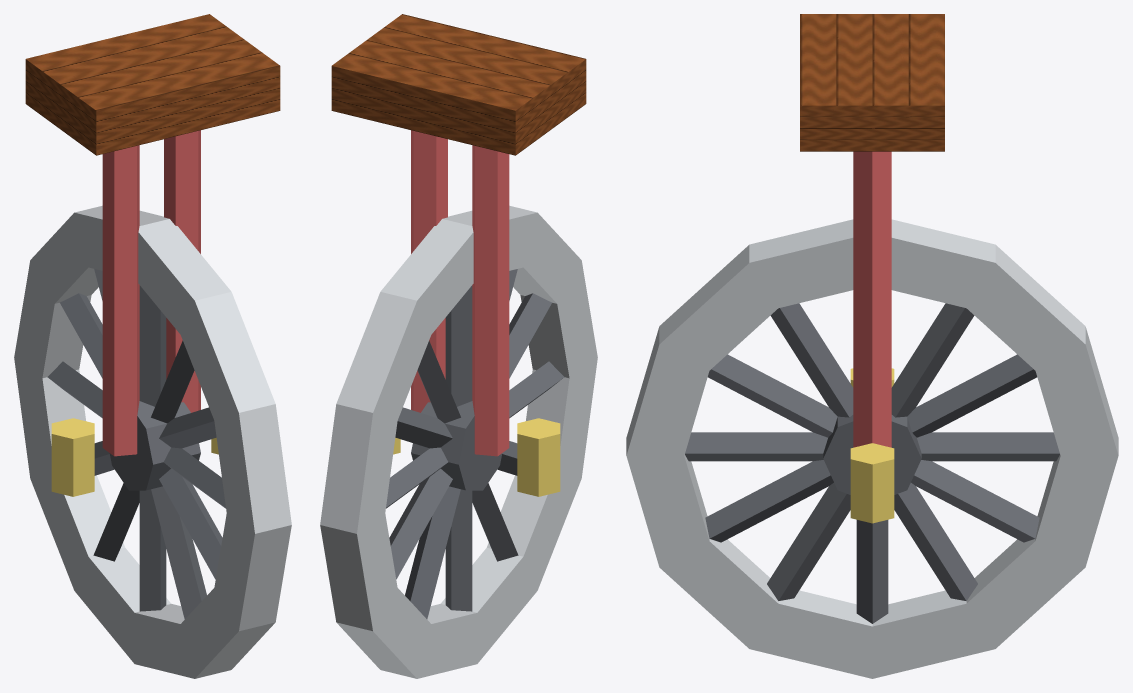
File: travelling-circus-and-big-top-unicycle-edaf1438__36247.glb
3 views of the same model, side by side, from view 1: azimuth 30°, elevation 25°; view 2: azimuth 150°, elevation 25°; view 3: azimuth 270°, elevation 25° (orthographic). The views are drawn at different scales.
Visible parts, largest first — view 1: wheel-main/steel, wheel-main/charcoal, unicycle-timber, unicycle-stripe, unicycle-gold; view 2: wheel-main/steel, wheel-main/charcoal, unicycle-timber, unicycle-stripe, unicycle-gold; view 3: wheel-main/steel, wheel-main/charcoal, unicycle-timber, unicycle-stripe, unicycle-gold.
Boxes of the visible parts, left/top/right/bottom form: wheel-main/steel: left=14, top=205, right=291, bottom=678; wheel-main/charcoal: left=47, top=269, right=225, bottom=619; unicycle-timber: left=25, top=14, right=280, bottom=155; unicycle-stripe: left=102, top=130, right=200, bottom=456; unicycle-gold: left=51, top=418, right=218, bottom=496; wheel-main/steel: left=320, top=205, right=597, bottom=678; wheel-main/charcoal: left=386, top=269, right=564, bottom=619; unicycle-timber: left=331, top=14, right=586, bottom=155; unicycle-stripe: left=411, top=130, right=509, bottom=456; unicycle-gold: left=393, top=418, right=560, bottom=496; wheel-main/steel: left=626, top=219, right=1118, bottom=678; wheel-main/charcoal: left=685, top=303, right=1059, bottom=623; unicycle-timber: left=800, top=14, right=944, bottom=151; unicycle-stripe: left=853, top=151, right=891, bottom=447; unicycle-gold: left=850, top=368, right=894, bottom=523.
Bounding box in the file's own units: 0.33 × 0.93 × 0.68.
Materials: 5 (1 with a texture image).
